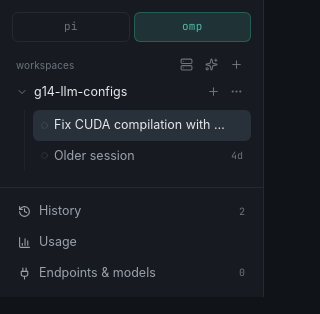
Scenario: Sidebar › nests each live session under a collapsible workspace
The image size is (320, 314).
Click the button with aria-label "Collapse workspace g14-llm-configs".
click(108, 92)  # box x1=16 y1=79 x2=199 y2=106
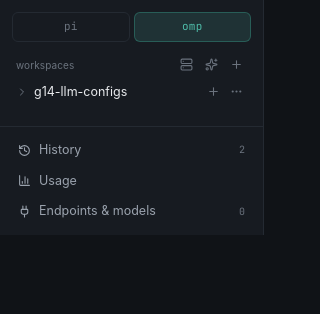
expect the button "Fix CUDA compilation with GCC-14" is gone: met
